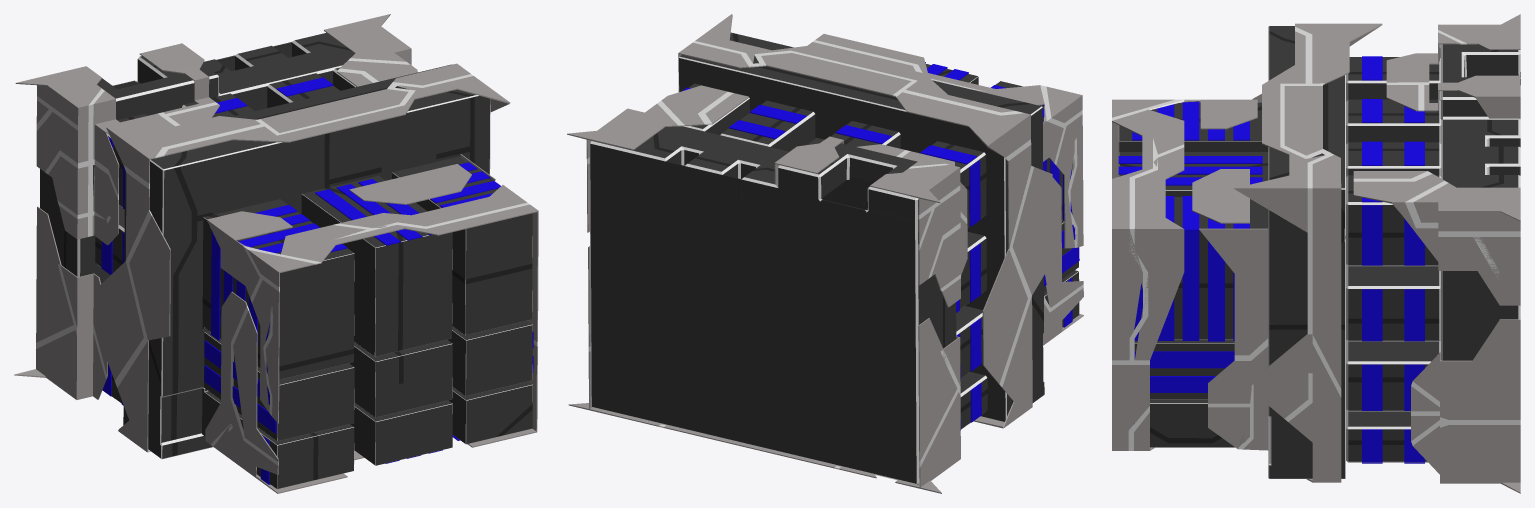
Rendered from House3.glb.
The picture shows the model from 3 angles, left to right: view 1: azimuth 30°, elevation 25°; view 2: azimuth 150°, elevation 25°; view 3: azimuth 270°, elevation 25°; orthographic projection.
Parts seen in each view (by area): view 1: Layer1.001, Layer3.001, Layer2.001; view 2: Layer1.001, Layer3.001, Layer2.001; view 3: Layer3.001, Layer1.001, Layer2.001.
Boxes of the visible parts, bbox=[...] form: Layer1.001: bbox=[40, 33, 532, 489]; Layer3.001: bbox=[14, 14, 538, 493]; Layer2.001: bbox=[101, 77, 533, 484]; Layer1.001: bbox=[589, 32, 1079, 484]; Layer3.001: bbox=[567, 14, 1083, 493]; Layer2.001: bbox=[682, 62, 1079, 430]; Layer3.001: bbox=[1112, 14, 1520, 493]; Layer1.001: bbox=[1118, 26, 1520, 478]; Layer2.001: bbox=[1118, 56, 1424, 463].
Size of the model in its own units: 39.92 by 29.97 by 37.3.
